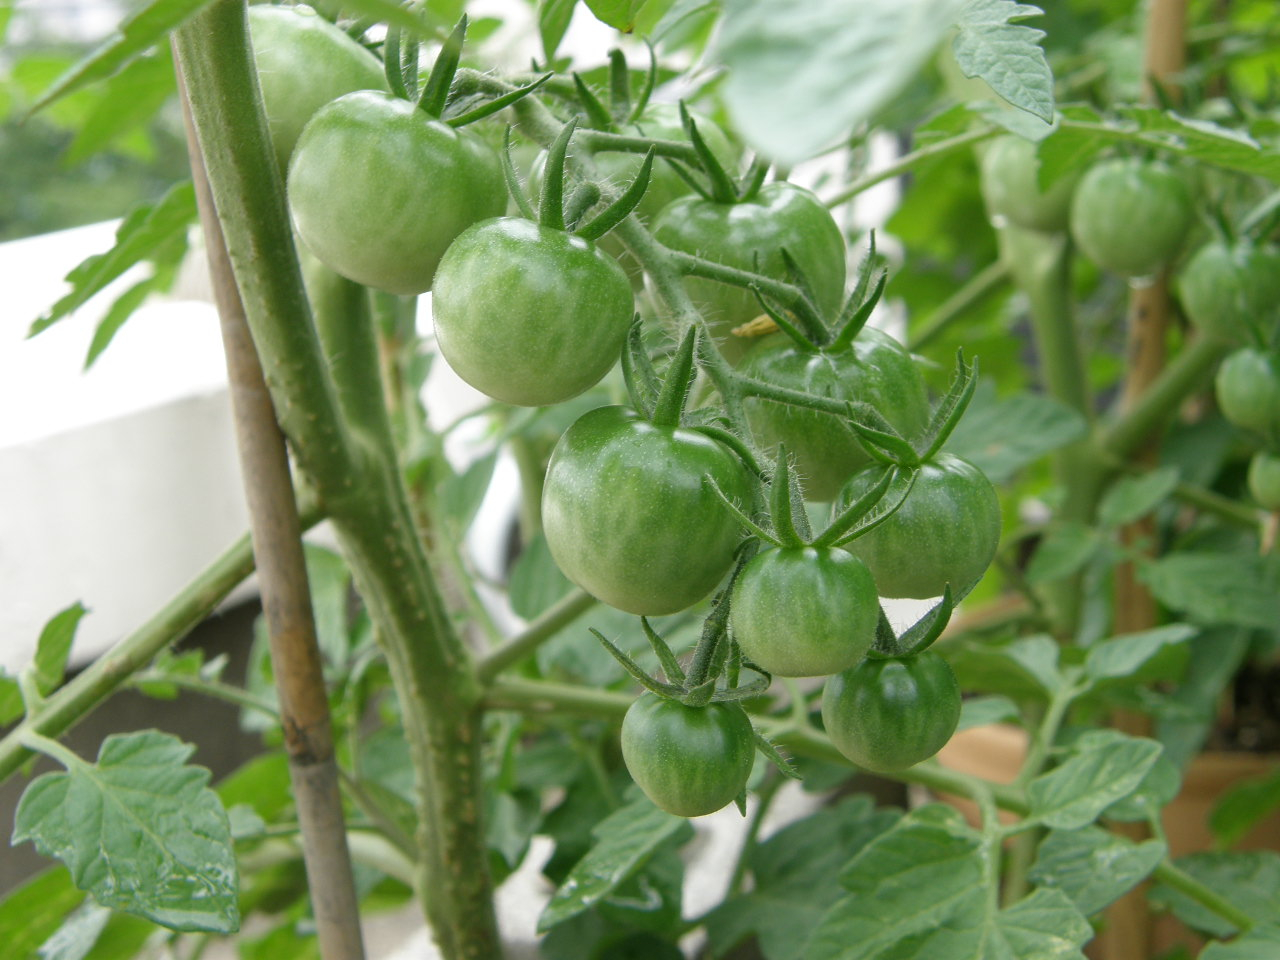stems: (740, 374, 918, 464), (677, 252, 829, 347), (571, 127, 741, 201), (754, 457, 816, 549), (683, 583, 733, 690), (653, 348, 703, 430), (425, 69, 501, 119), (565, 176, 598, 234), (873, 601, 902, 658)
tomato: (283, 92, 509, 294), (540, 405, 759, 614), (431, 218, 635, 409), (529, 102, 743, 278), (638, 183, 848, 358), (742, 326, 929, 499), (210, 7, 398, 162), (822, 453, 1002, 600), (731, 545, 878, 675), (619, 687, 756, 814), (823, 651, 959, 769), (1065, 160, 1190, 275), (983, 121, 1094, 228), (1181, 238, 1280, 337), (1215, 346, 1280, 424), (1246, 451, 1280, 506)
